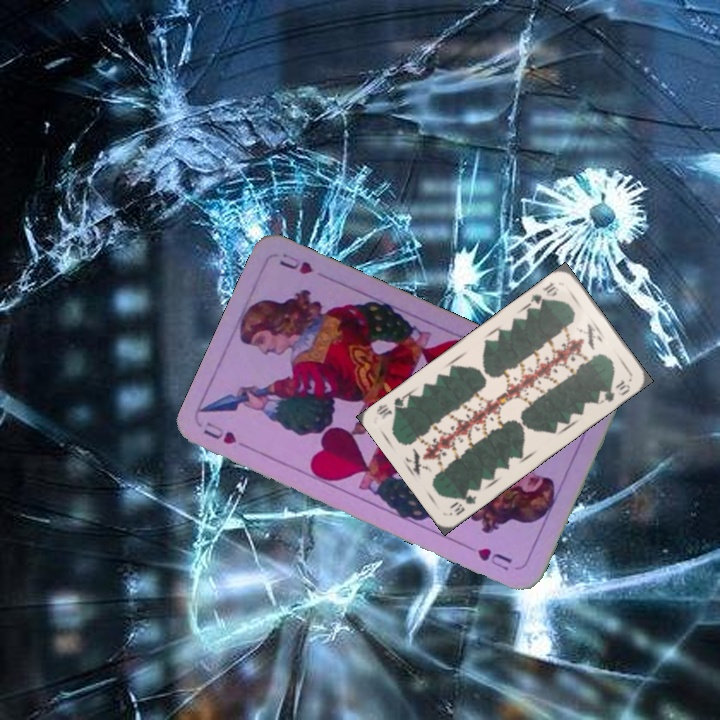G10: (526, 277, 560, 308), (446, 488, 479, 518)
HU: (199, 417, 255, 451)
